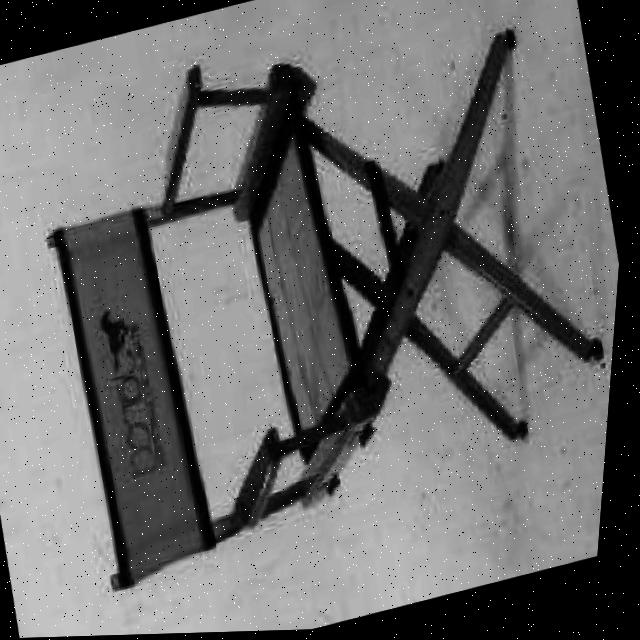sandalye: (0, 0, 640, 601)
